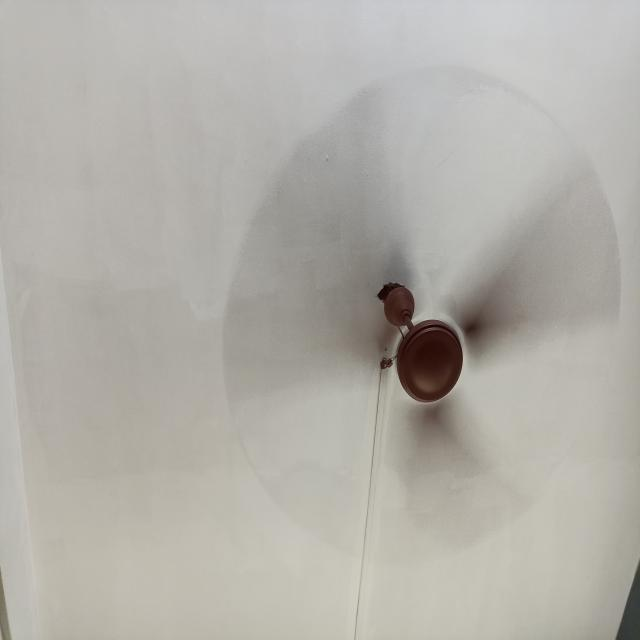fan: (217, 64, 619, 568)
